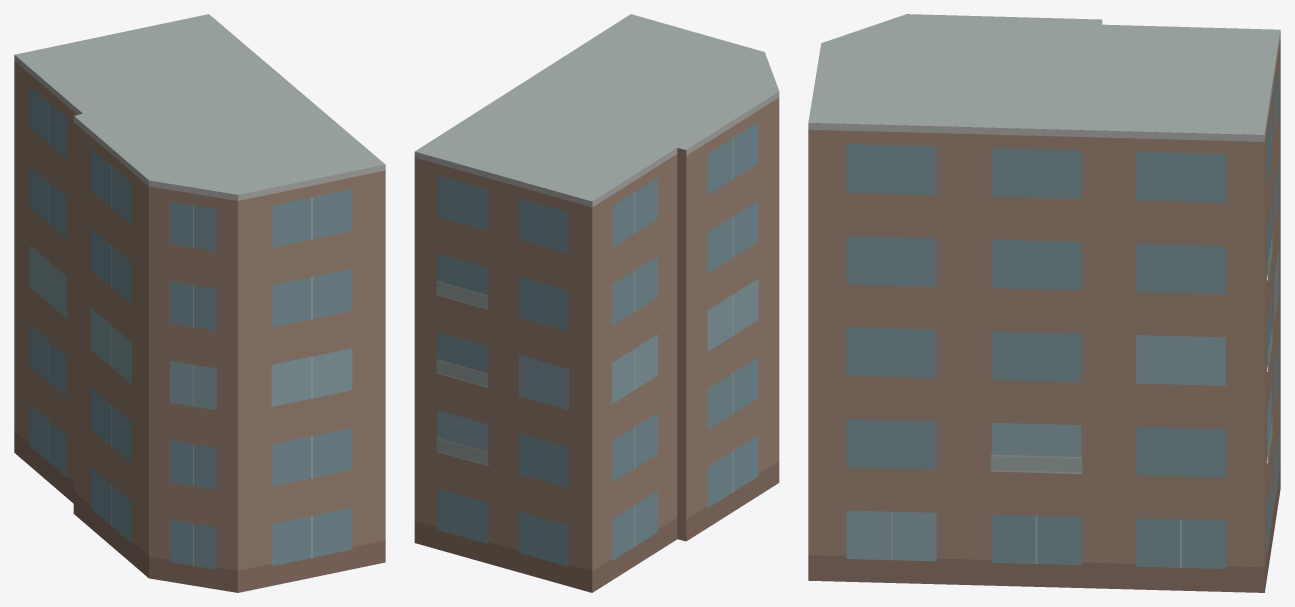
Rendered from survey-upis-32993519.glb.
3 renders of one model, left to right at view 1: azimuth 30°, elevation 25°; view 2: azimuth 150°, elevation 25°; view 3: azimuth 270°, elevation 25°, orthographic. The views are drawn at different scales.
Parts seen in each view (by area): view 1: survey-upis-32993519.tmp; view 2: survey-upis-32993519.tmp; view 3: survey-upis-32993519.tmp.
Boxes of the visible parts, x1,y1,x2,y2 form: survey-upis-32993519.tmp: [14, 14, 385, 592]; survey-upis-32993519.tmp: [414, 14, 779, 592]; survey-upis-32993519.tmp: [808, 14, 1280, 592].
Size of the model in its own units: 9.13 by 16.1 by 15.06.
